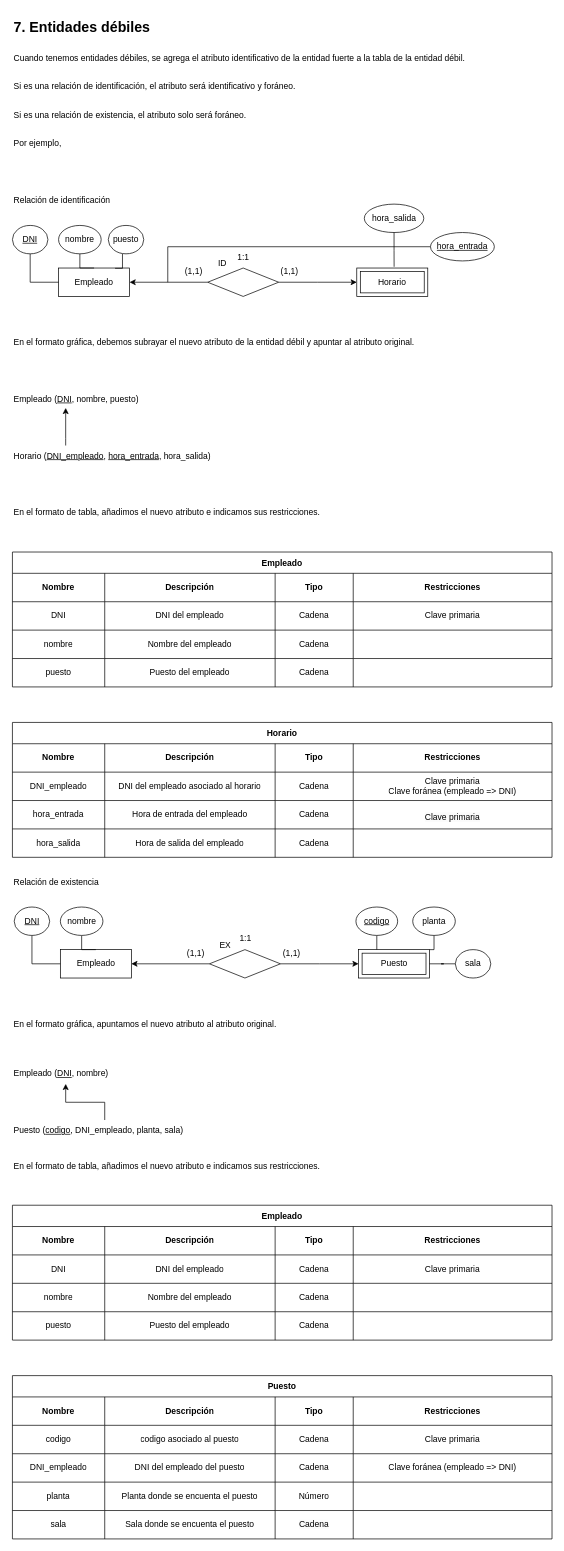
Some shapes in this 564 by 1551 pixel diagram are drawn without their labels. The shapes that lost their labels are listed below. From the top down, each one's box as (x1, y1, x2, y2) in pixels, then its label:
(207, 267, 279, 296): tiene
(209, 949, 280, 978): trabaja
